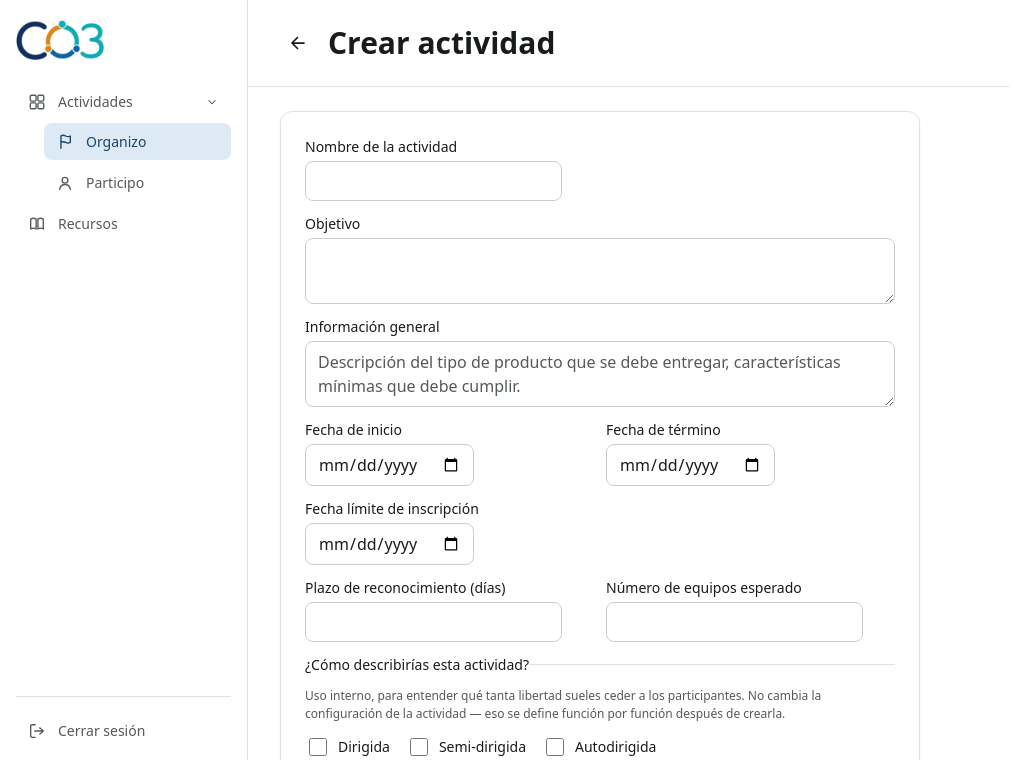
Test: PantallaCrearActividad › exige que la fecha de término sea posterior a la de inicio
The image size is (1024, 760).
Type "2026-09-01" into the date field labelled "Fecha de inicio" at (390, 464), box [305,444,474,486]
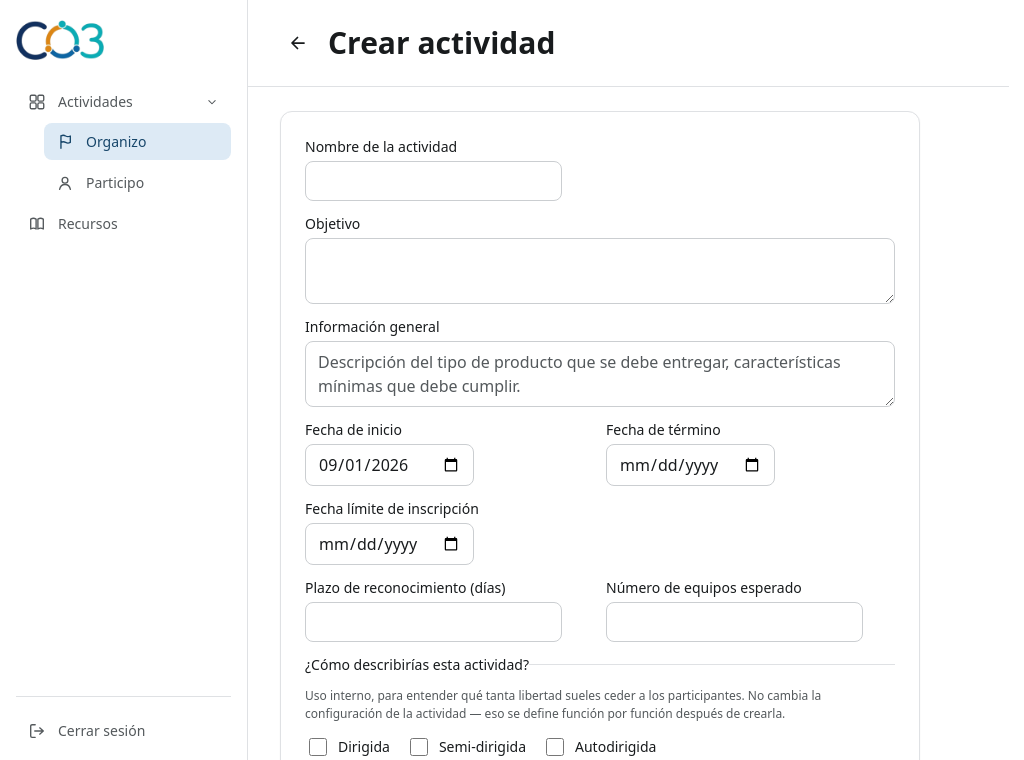
Type "2026-09-01" into the date field labelled "Fecha de término" at (690, 464), box [606,444,775,486]
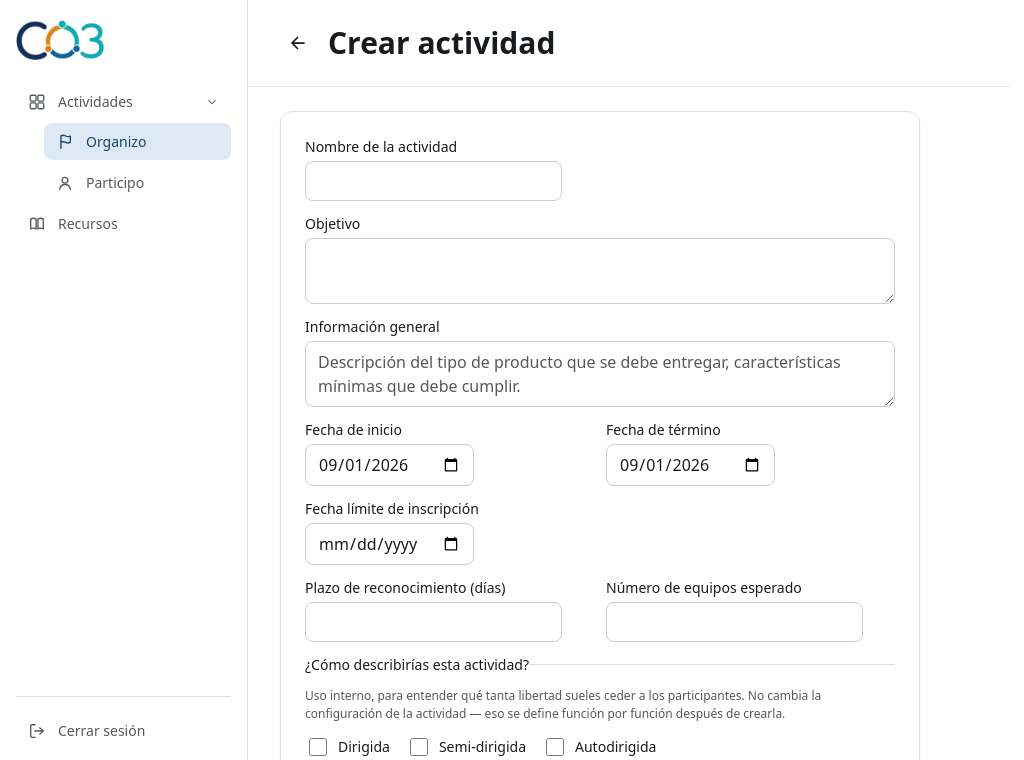
Leave the date field labelled "Fecha de término", box [606,444,775,486]
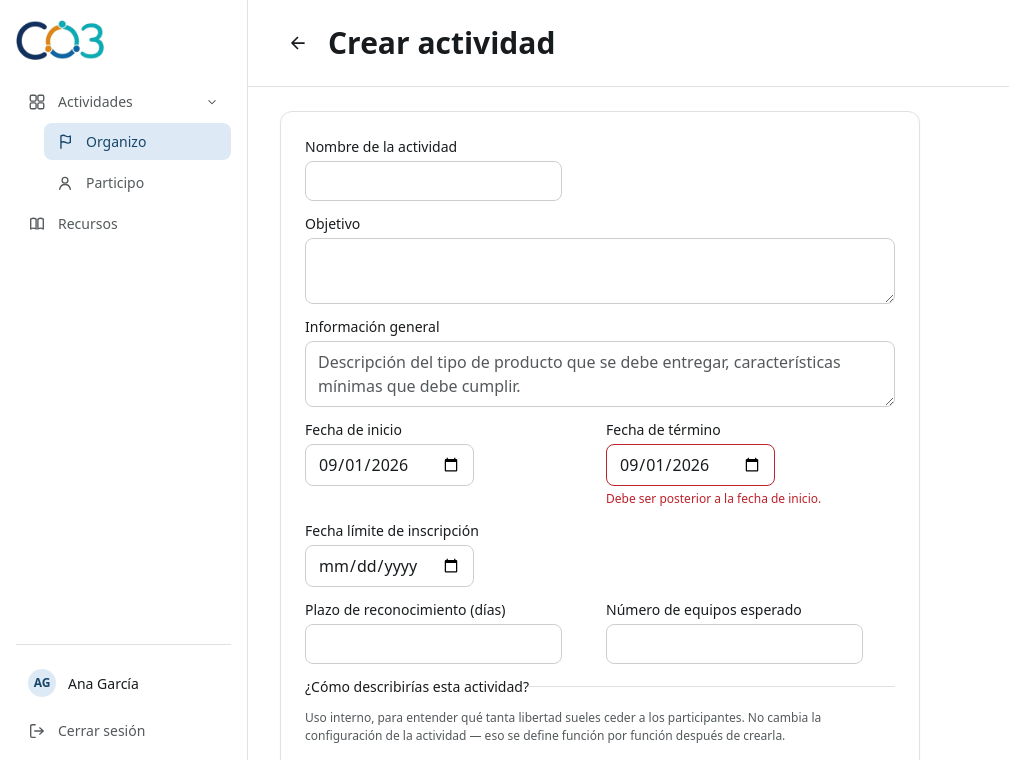
Expected: the text "Debe ser posterior a la fecha de inicio." is shown, [606,490,821,506]
